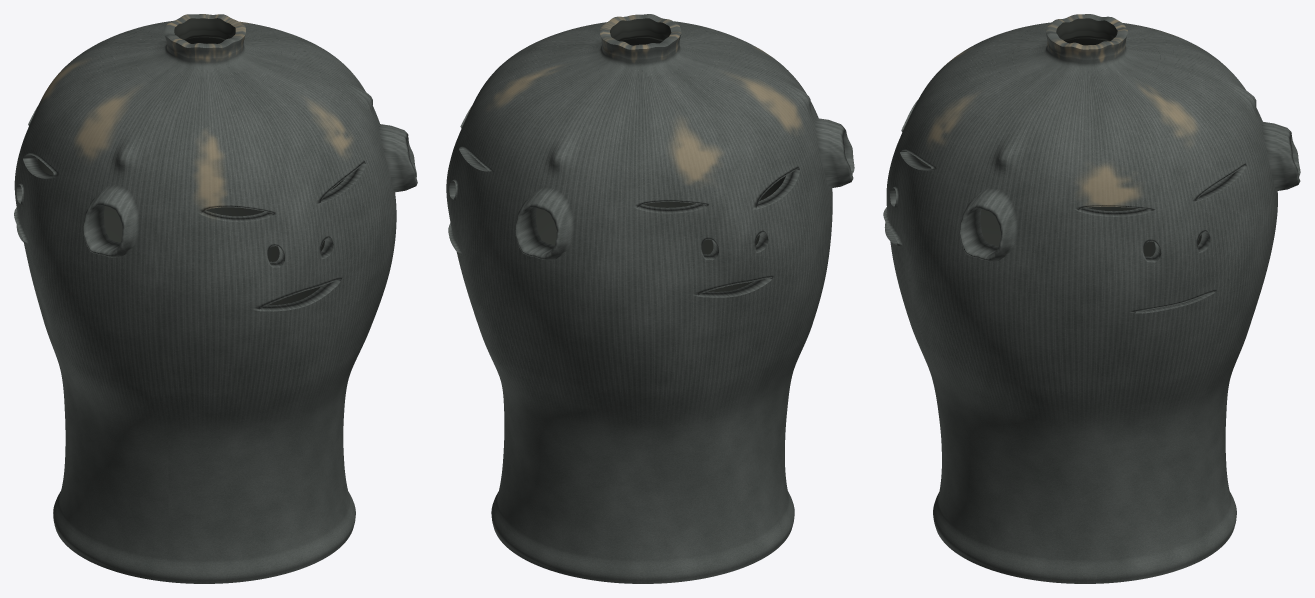
The model's file is face-artifact-v4.glb.
The picture shows the model from 3 angles, left to right: view 1: azimuth 30°, elevation 25°; view 2: azimuth 150°, elevation 25°; view 3: azimuth 270°, elevation 25°; orthographic projection.
Visible parts, largest first — view 1: Perforated stamped body, Continuous inner wall, Side opening 3 clay edge, Side opening 1 clay edge, Uneven short neck rim, Face 1 mouth clay edge, Face 1 left eye clay edge, Face 1 right eye clay edge, Face 3 right eye clay edge; view 2: Perforated stamped body, Side opening 2 clay edge, Continuous inner wall, Side opening 3 clay edge, Uneven short neck rim, Face 3 mouth clay edge, Face 3 right eye clay edge, Face 3 left eye clay edge; view 3: Perforated stamped body, Side opening 1 clay edge, Continuous inner wall, Side opening 2 clay edge, Uneven short neck rim, Face 2 left eye clay edge, Face 2 right eye clay edge.
Part boxes in pixels (left/top/right/bottom): Perforated stamped body: left=14, top=21, right=396, bottom=583; Continuous inner wall: left=37, top=18, right=344, bottom=305; Side opening 3 clay edge: left=83, top=184, right=139, bottom=257; Side opening 1 clay edge: left=379, top=124, right=417, bottom=192; Uneven short neck rim: left=164, top=14, right=245, bottom=47; Face 1 mouth clay edge: left=252, top=276, right=342, bottom=311; Face 1 left eye clay edge: left=197, top=205, right=276, bottom=221; Face 1 right eye clay edge: left=315, top=160, right=365, bottom=205; Face 3 right eye clay edge: left=23, top=152, right=58, bottom=179; Perforated stamped body: left=446, top=21, right=832, bottom=583; Side opening 2 clay edge: left=515, top=187, right=574, bottom=260; Continuous inner wall: left=536, top=18, right=785, bottom=291; Side opening 3 clay edge: left=815, top=118, right=854, bottom=188; Uneven short neck rim: left=599, top=14, right=681, bottom=49; Face 3 mouth clay edge: left=692, top=275, right=773, bottom=297; Face 3 right eye clay edge: left=751, top=165, right=799, bottom=209; Face 3 left eye clay edge: left=633, top=199, right=709, bottom=213; Perforated stamped body: left=886, top=22, right=1277, bottom=583; Side opening 1 clay edge: left=959, top=187, right=1018, bottom=261; Continuous inner wall: left=916, top=18, right=1201, bottom=256; Side opening 2 clay edge: left=1262, top=121, right=1300, bottom=191; Uneven short neck rim: left=1046, top=14, right=1127, bottom=49; Face 2 left eye clay edge: left=1074, top=204, right=1155, bottom=216; Face 2 right eye clay edge: left=1191, top=162, right=1246, bottom=202.
Size of the model in its own units: 1.12 by 1.59 by 1.22.
Materials: 2 (1 with a texture image).
